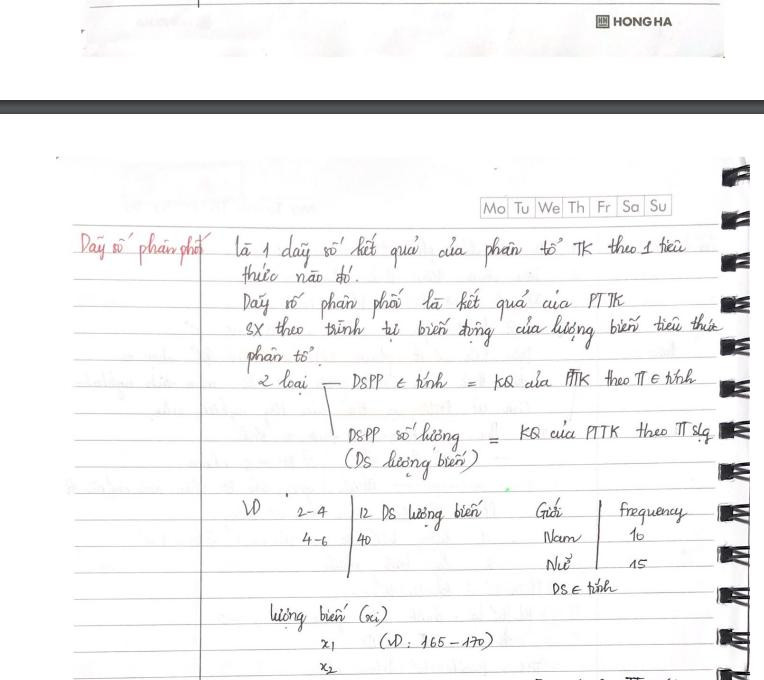text: (242, 310, 725, 351), (229, 230, 689, 270), (239, 286, 626, 323), (349, 365, 700, 394), (488, 418, 715, 446), (341, 446, 481, 482), (76, 230, 212, 267), (355, 497, 486, 534), (266, 601, 390, 634), (345, 420, 462, 454), (481, 198, 668, 217), (239, 262, 360, 288), (376, 629, 494, 654), (241, 342, 315, 377), (617, 500, 689, 527), (254, 368, 310, 397), (550, 577, 619, 598), (611, 14, 673, 29), (532, 495, 565, 522), (541, 529, 585, 547), (545, 552, 577, 574), (299, 531, 330, 550), (295, 504, 328, 521), (239, 497, 262, 518), (316, 660, 340, 677), (319, 636, 338, 653), (627, 557, 649, 571), (627, 527, 646, 543), (353, 532, 373, 547)
